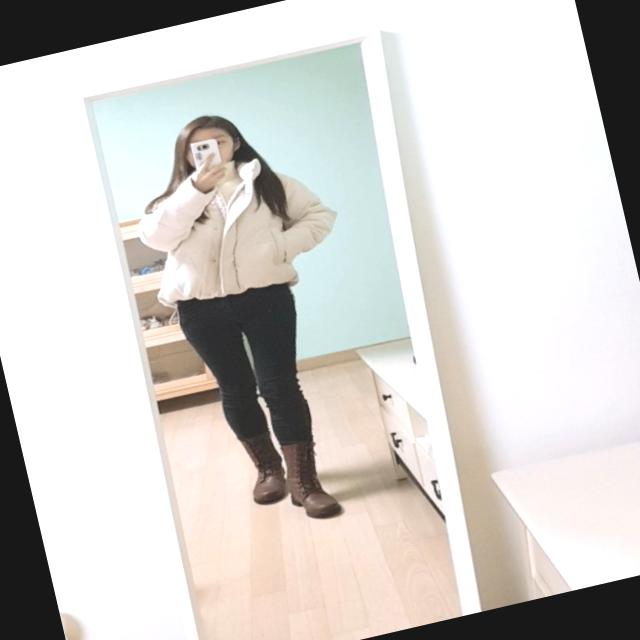denimpants: (125, 140, 348, 318), (176, 275, 326, 464)
